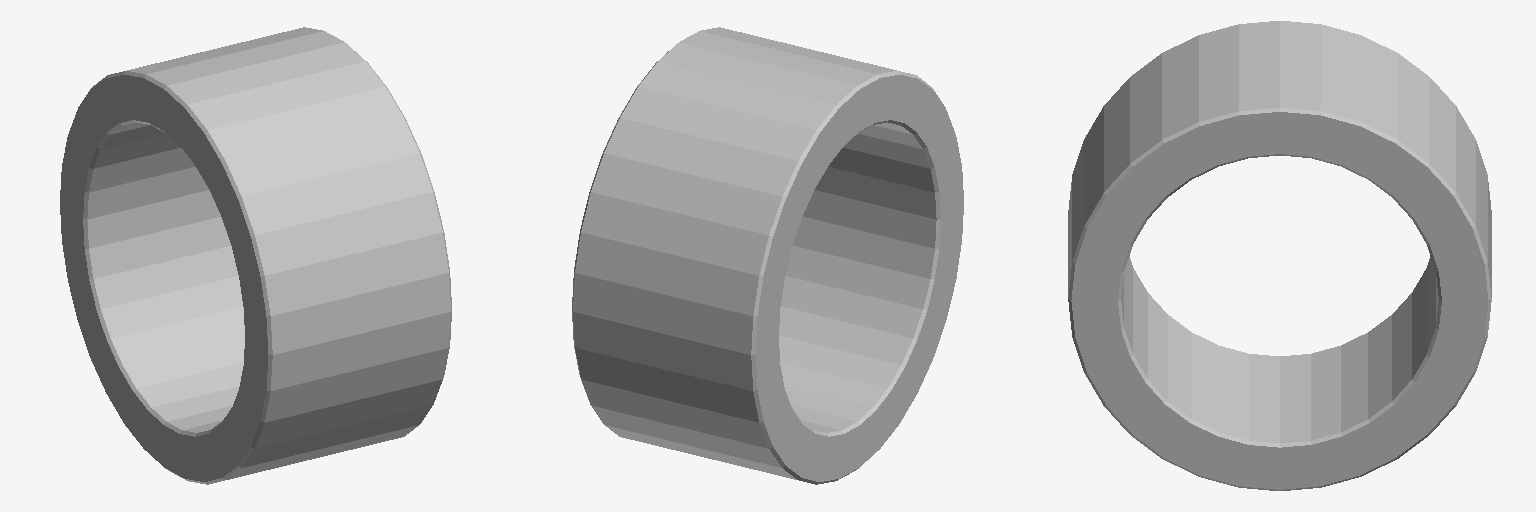
File: Kuglelager-vorne-1.obj
3 renders of one model, left to right at view 1: azimuth 30°, elevation 25°; view 2: azimuth 150°, elevation 25°; view 3: azimuth 270°, elevation 25°, orthographic.
Visible parts, largest first — view 1: Circle.012; view 2: Circle.012; view 3: Circle.012.
Part boxes in pixels (x1,y1,x2,y2): Circle.012: (60, 27, 451, 484); Circle.012: (572, 27, 963, 484); Circle.012: (1068, 21, 1491, 490).
Size of the model in its own units: 0.0181 by 0.0361 by 0.0361.